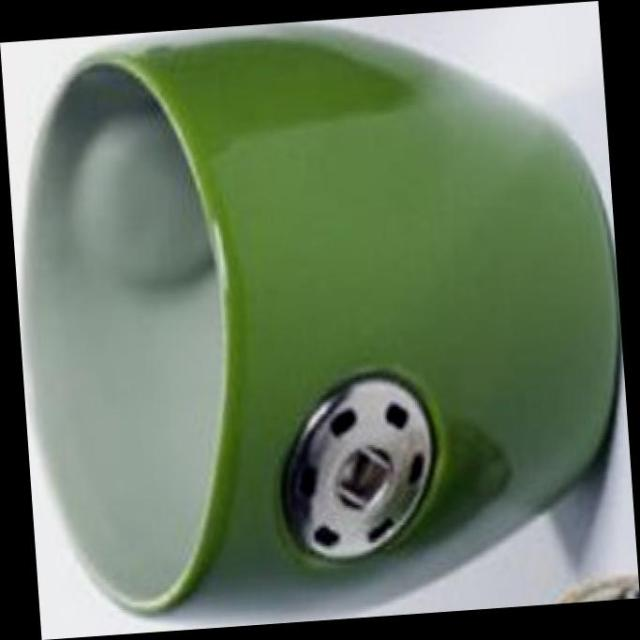cup: (14, 55, 640, 640)
